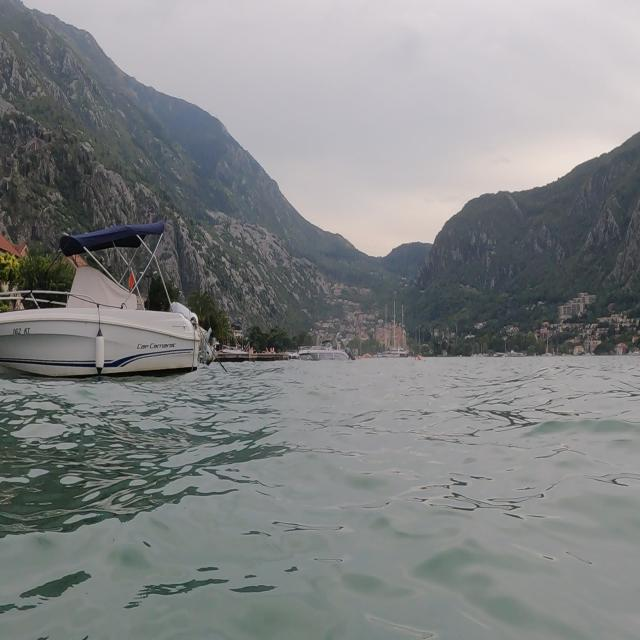boat: (1, 216, 216, 382), (380, 295, 419, 379), (296, 331, 356, 375)
